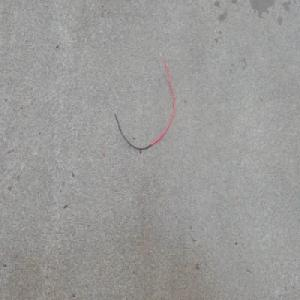Wire: (109, 48, 175, 150)
